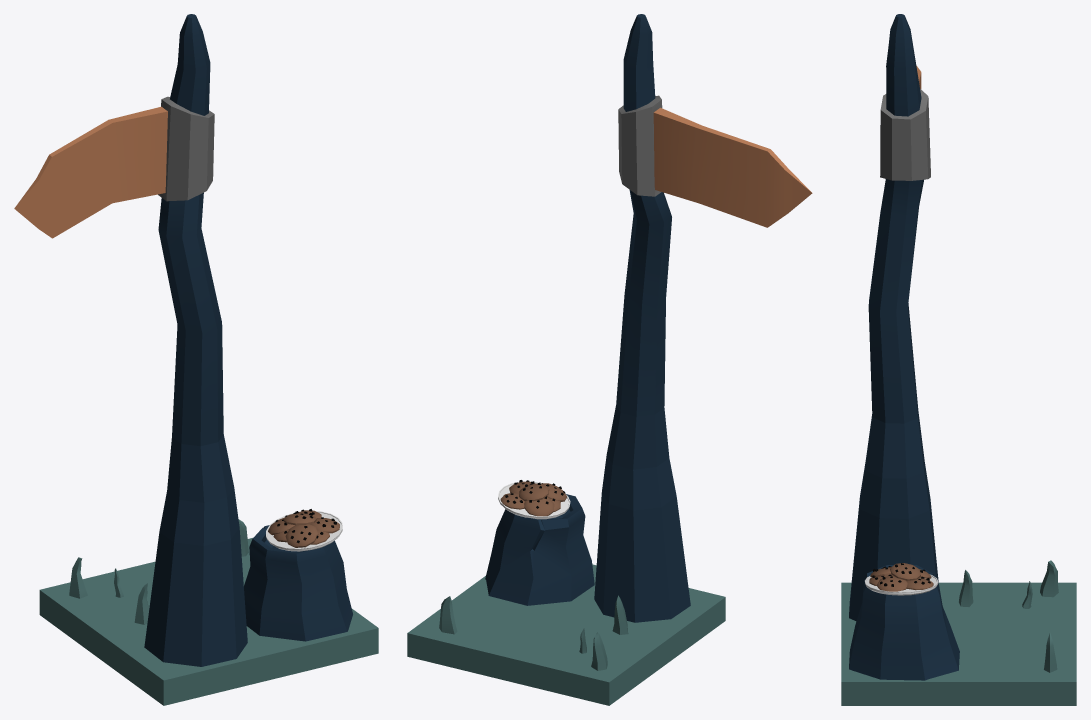
Rendered from Drapeau_Endgame.fbx.
The picture shows the model from 3 angles, left to right: view 1: azimuth 30°, elevation 25°; view 2: azimuth 150°, elevation 25°; view 3: azimuth 270°, elevation 25°; orthographic projection. The views are drawn at different scales.
Visible parts, largest first — view 1: Drapeau_end; view 2: Drapeau_end; view 3: Drapeau_end.
Boxes of the visible parts, box(x1,y1,x2,y2) form: Drapeau_end: box(14, 14, 378, 705); Drapeau_end: box(407, 14, 812, 705); Drapeau_end: box(841, 14, 1076, 705).
Bounding box in the file's own units: 1.56 × 2.9 × 1.
